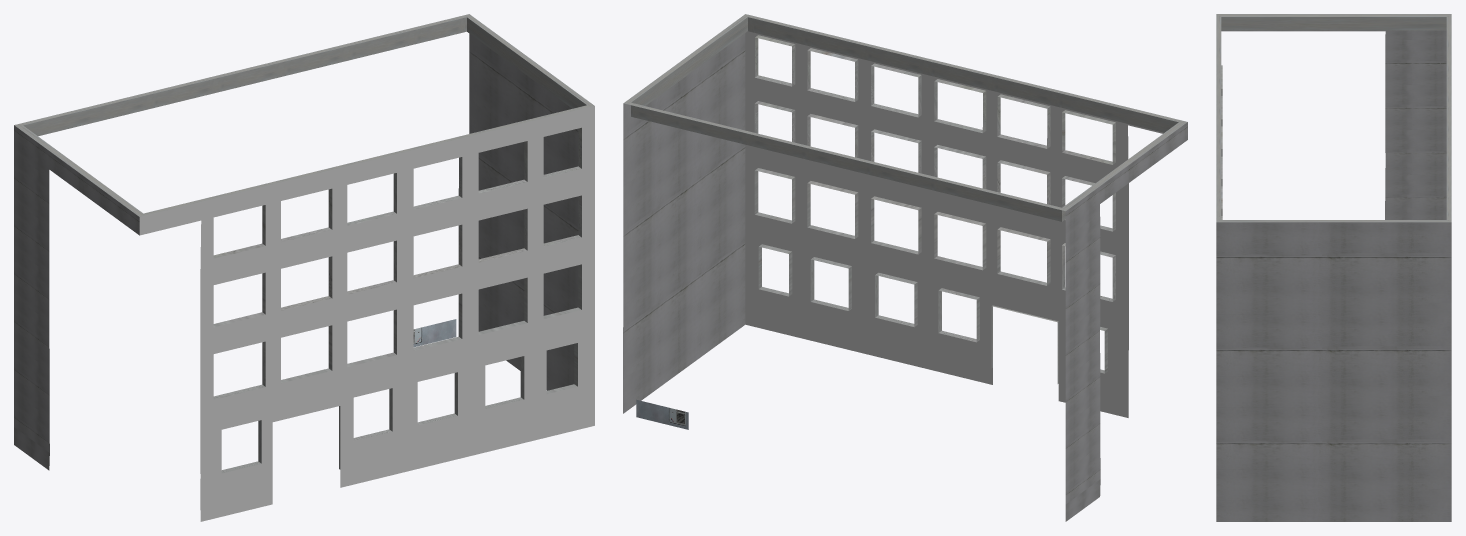
The model's file is 外部替换·改.fbx.
The picture shows the model from 3 angles, left to right: view 1: azimuth 30°, elevation 25°; view 2: azimuth 150°, elevation 25°; view 3: azimuth 270°, elevation 25°; orthographic projection. The views are drawn at different scales.
Visible parts, largest first — view 1: polySurface274; view 2: polySurface274; view 3: polySurface274.
Boxes of the visible parts, x1,y1,x2,y2 form: polySurface274: (14, 14, 594, 521); polySurface274: (623, 14, 1187, 521); polySurface274: (1216, 14, 1451, 521).
Size of the model in its own units: 3039 by 2039 by 1451.
